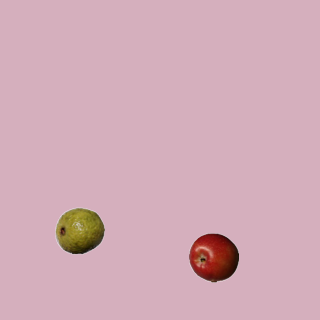Apple Braeburn: (188, 232, 238, 282)
Guava: (54, 205, 104, 255)
